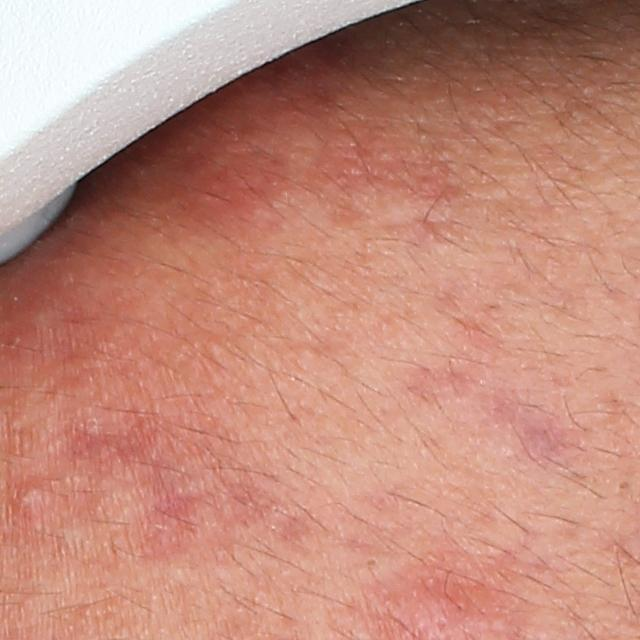comedo: (360, 551, 385, 577), (614, 473, 633, 496)
papule: (10, 468, 67, 531)
